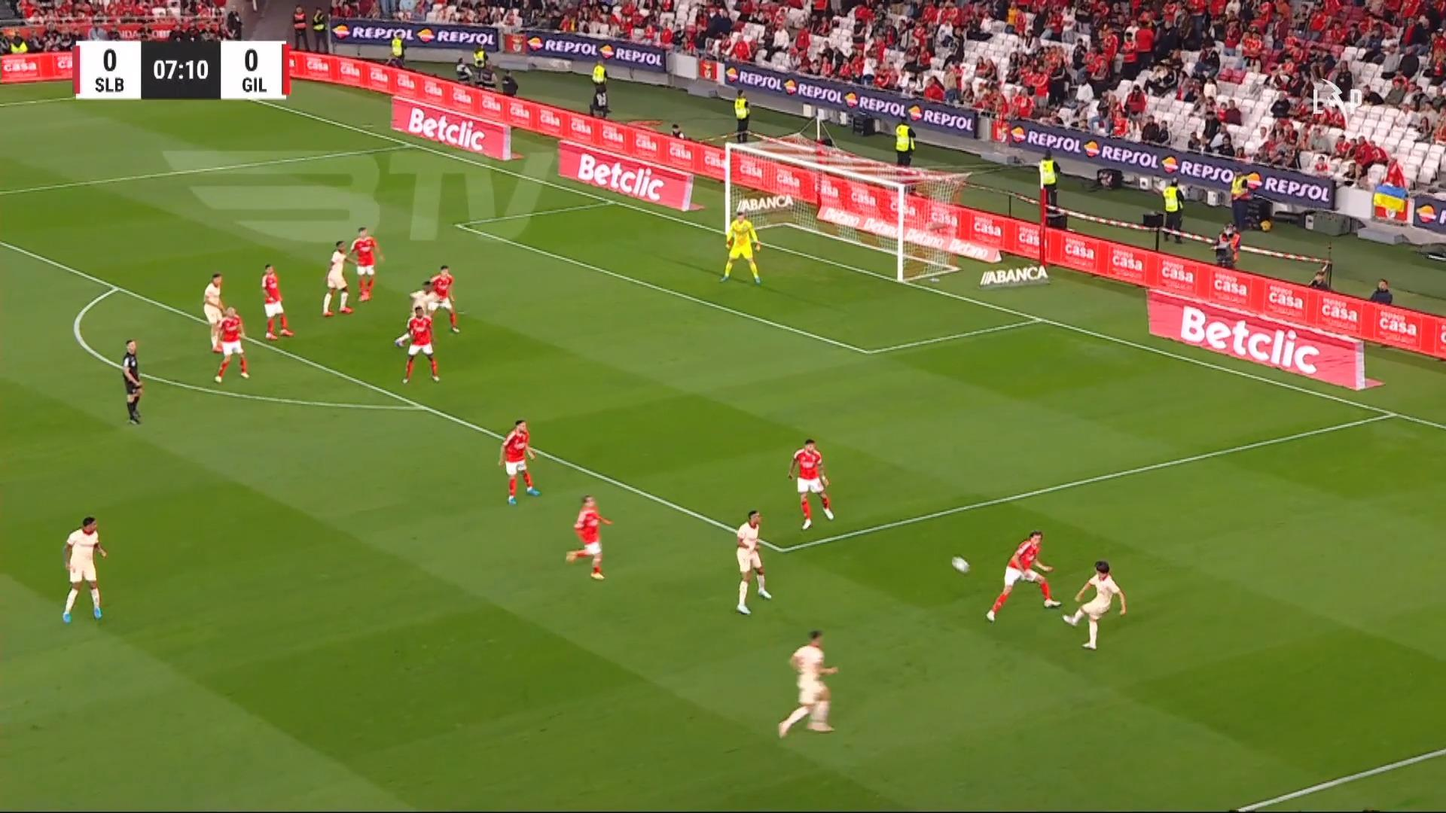ball: (950, 556, 969, 574)
goalkeeper: (719, 208, 762, 285)
player: (985, 529, 1062, 623), (776, 629, 839, 738), (1061, 559, 1127, 650), (61, 515, 108, 623), (786, 437, 834, 531), (565, 494, 612, 580), (734, 509, 772, 615), (393, 304, 440, 384), (497, 419, 540, 505), (393, 279, 439, 347), (212, 306, 249, 382), (348, 225, 384, 302), (260, 263, 294, 340), (322, 239, 354, 317), (426, 263, 459, 333), (203, 272, 227, 352)
referee: (120, 339, 144, 425)
